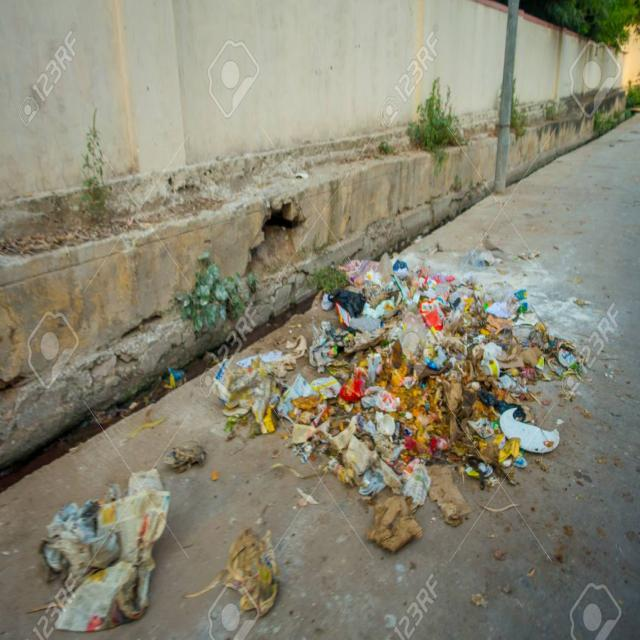garbage: (0, 235, 636, 640)
